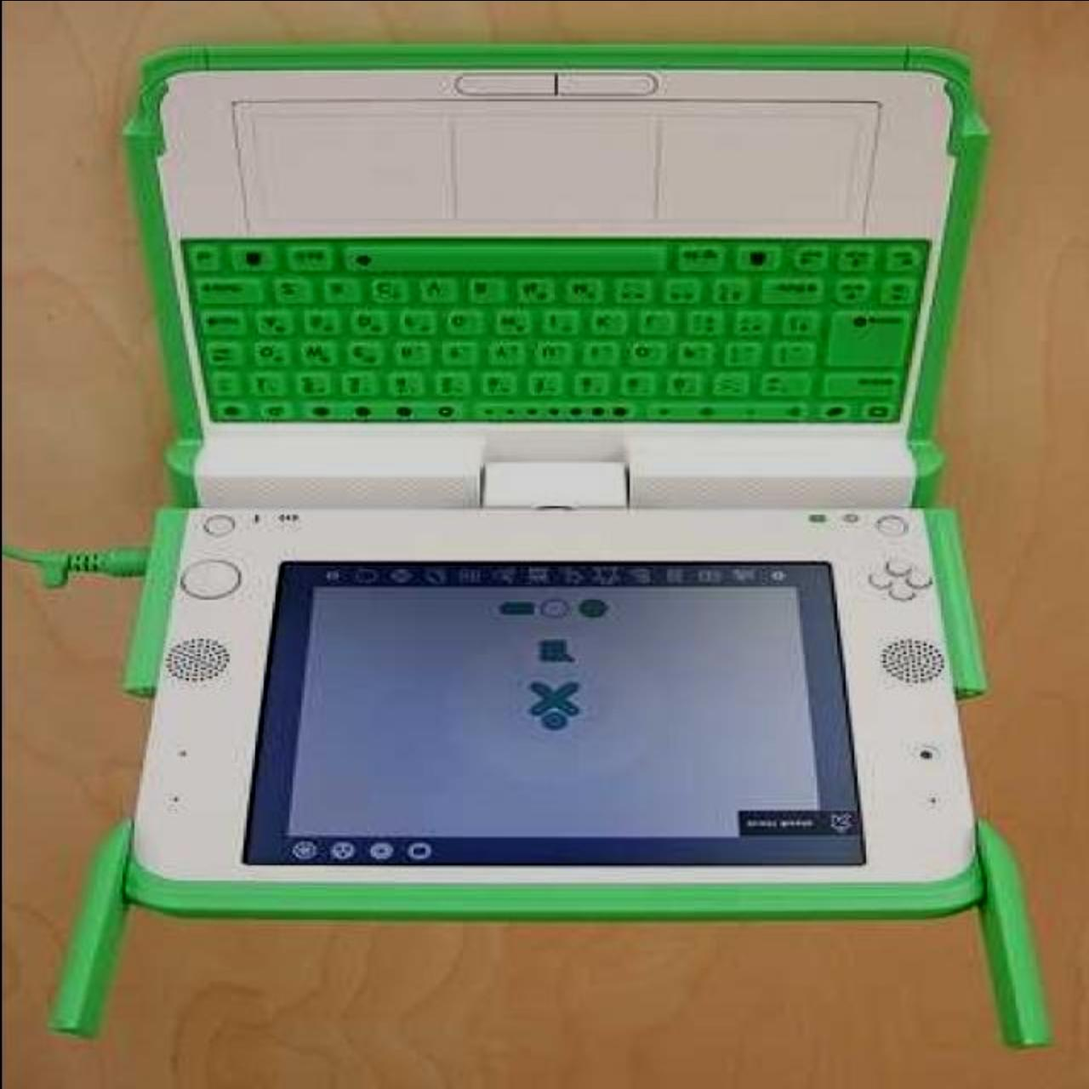laptop: (19, 33, 1016, 913)
